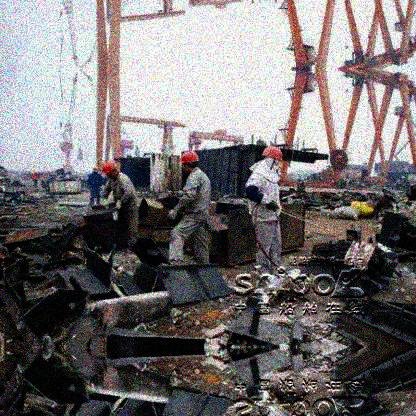helmet: (262, 144, 283, 170), (177, 151, 199, 169), (103, 161, 119, 178), (92, 164, 98, 173), (33, 169, 37, 175)
